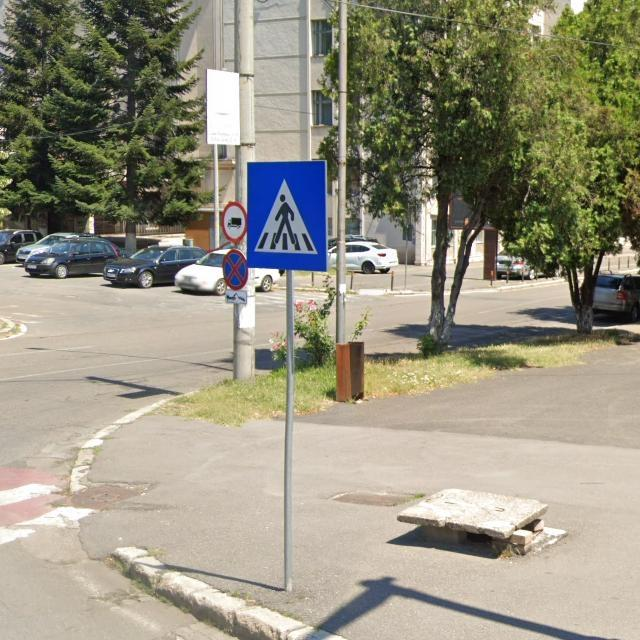forb_waiting: (223, 249, 248, 290)
info_crosswalk: (246, 159, 328, 271)
